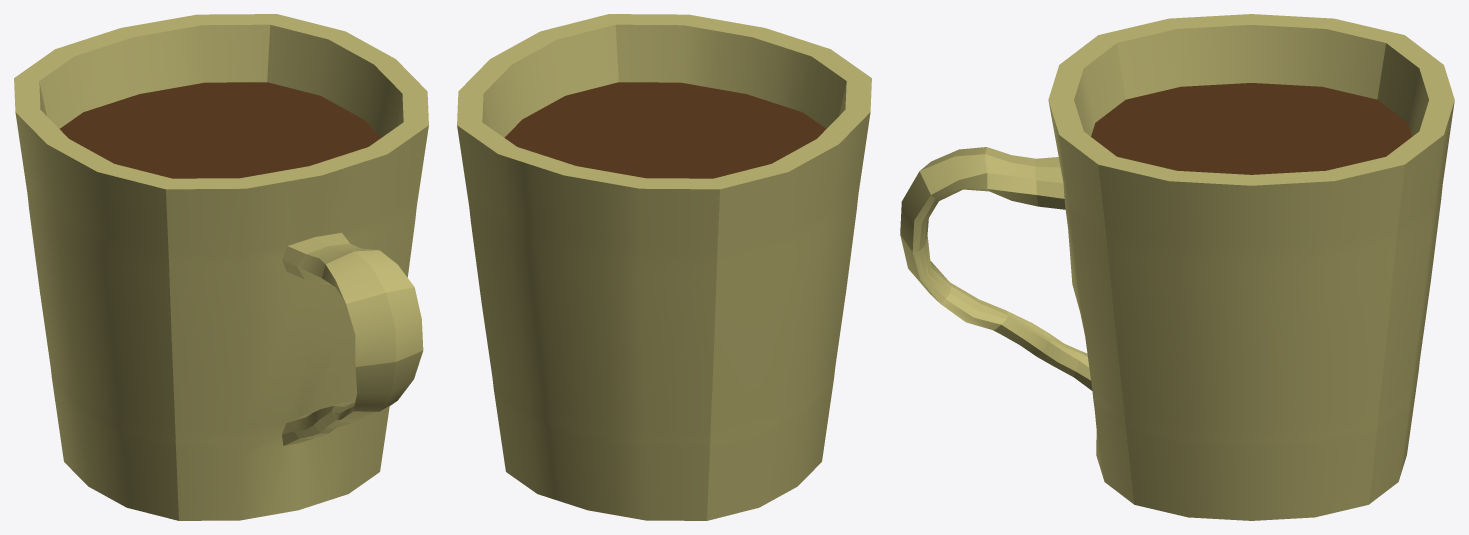
The model's file is mug.fbx.
3 views of the same model, side by side, from view 1: azimuth 30°, elevation 25°; view 2: azimuth 150°, elevation 25°; view 3: azimuth 270°, elevation 25° (orthographic).
Visible parts, largest first — view 1: mug; view 2: mug; view 3: mug.
Part boxes in pixels (<box>): mug: <box>14,14,428,520</box>; mug: <box>457,14,871,520</box>; mug: <box>900,14,1454,520</box>.
Bounding box in the file's own units: 294 × 284 × 401.
